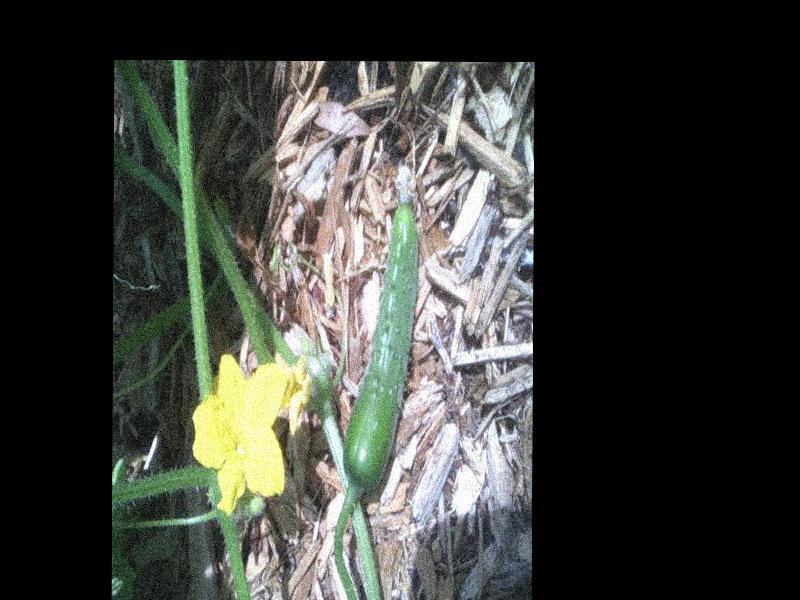Cucumber: (342, 171, 421, 496)
